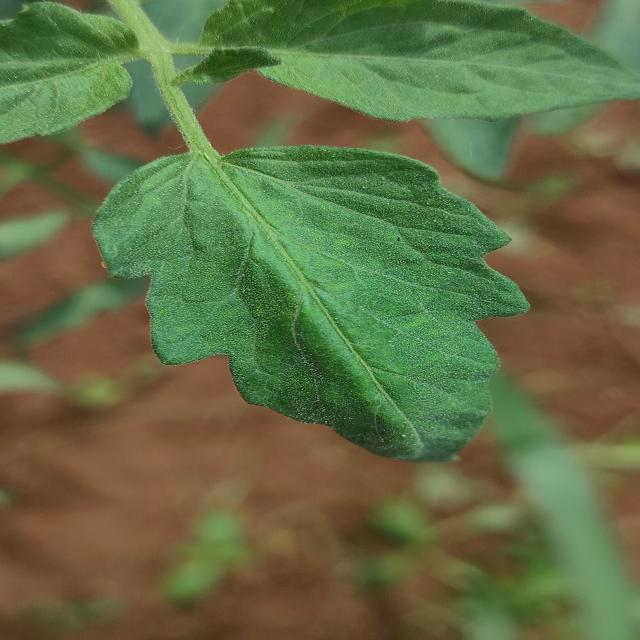tomato_healthy: (92, 146, 528, 462), (199, 0, 640, 120), (0, 1, 138, 142)
